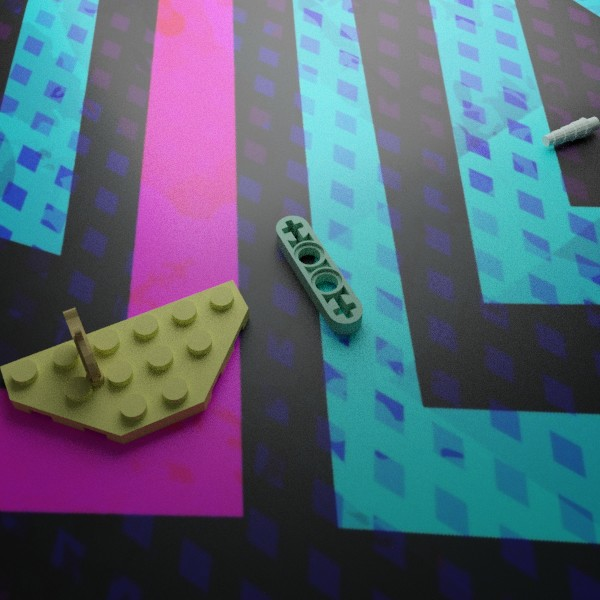lego: (0, 279, 249, 444), (276, 215, 363, 335), (62, 307, 105, 390), (541, 116, 600, 146)
